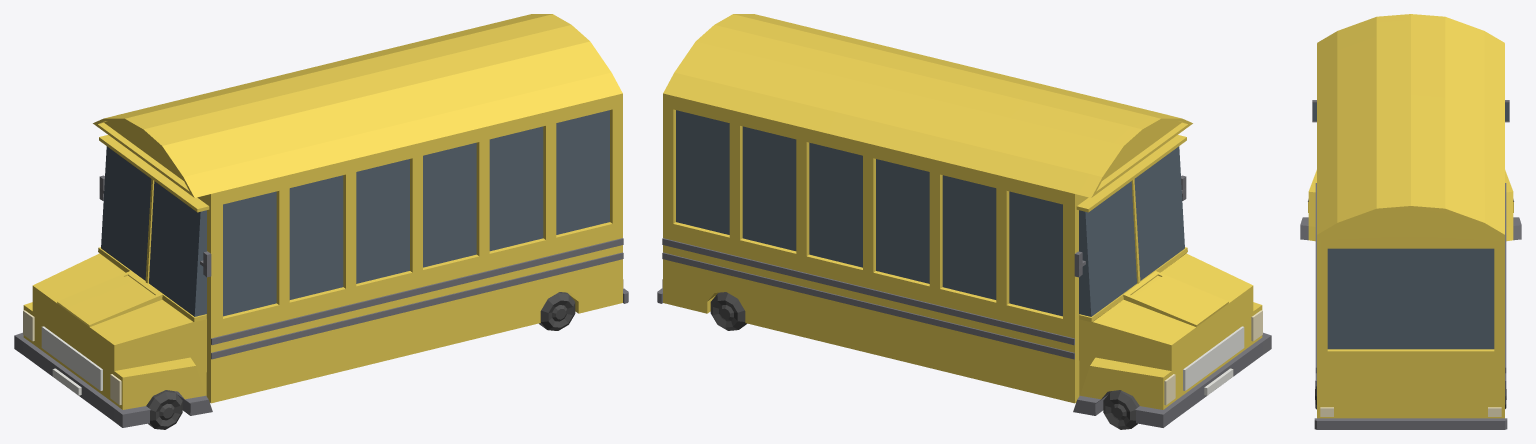
Rendered from school-bus.glb.
3 renders of one model, left to right at view 1: azimuth 30°, elevation 25°; view 2: azimuth 150°, elevation 25°; view 3: azimuth 270°, elevation 25°, orthographic. The views are drawn at different scales.
Parts seen in each view (by area): view 1: SchoolBus_Cube.001, FrontWheels_Cylinder.006, BackWheels_Cylinder.007; view 2: SchoolBus_Cube.001, FrontWheels_Cylinder.006, BackWheels_Cylinder.007; view 3: SchoolBus_Cube.001.
Part boxes in pixels (x1=…): SchoolBus_Cube.001: x1=14, y1=14, x2=628, y2=427; FrontWheels_Cylinder.006: x1=146, y1=390, x2=182, y2=429; BackWheels_Cylinder.007: x1=539, y1=292, x2=575, y2=330; SchoolBus_Cube.001: x1=657, y1=14, x2=1271, y2=427; FrontWheels_Cylinder.006: x1=1103, y1=390, x2=1139, y2=429; BackWheels_Cylinder.007: x1=710, y1=292, x2=746, y2=330; SchoolBus_Cube.001: x1=1300, y1=14, x2=1521, y2=429.
Size of the model in its own units: 4.61 by 2.19 by 1.88.
